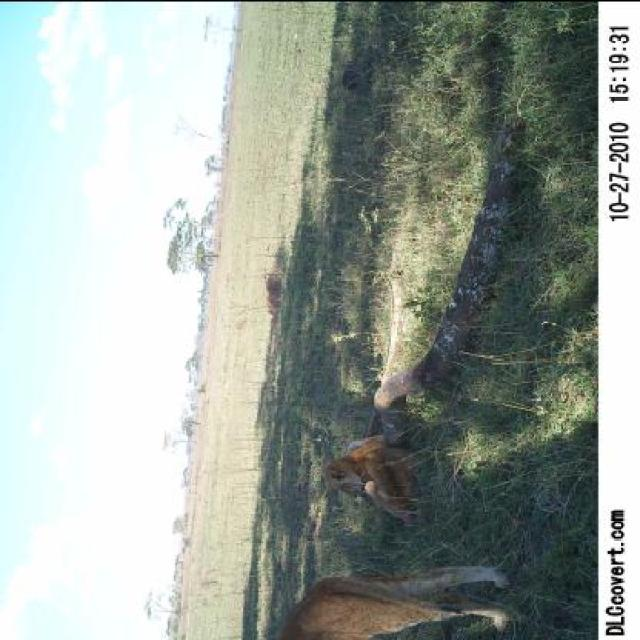Lion: (265, 554, 537, 638), (320, 420, 443, 525)
